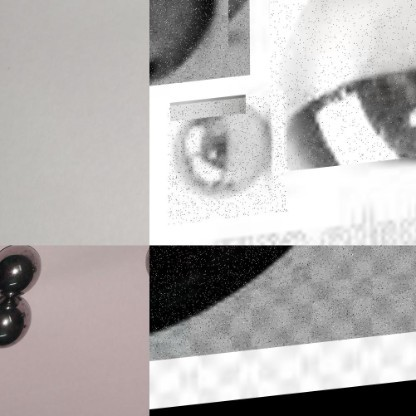ironball: (149, 245, 415, 370), (269, 0, 415, 178), (167, 99, 286, 228), (149, 0, 249, 93), (0, 246, 41, 295), (0, 293, 33, 348)
